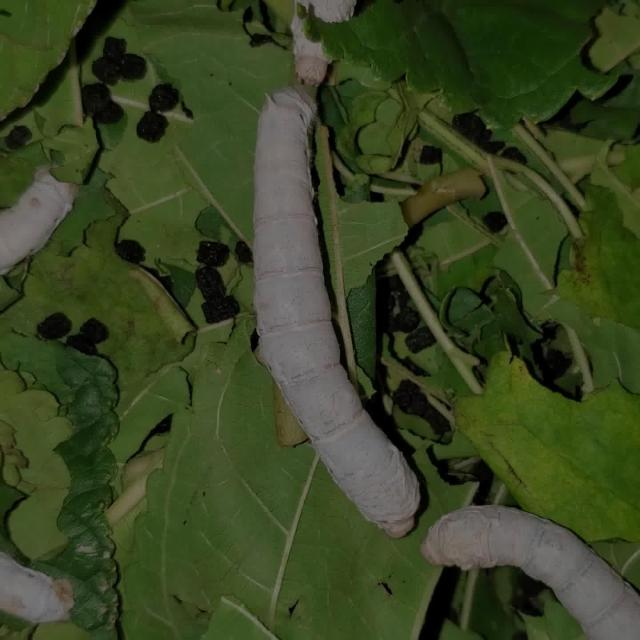Healthy: (198, 66, 640, 639)
